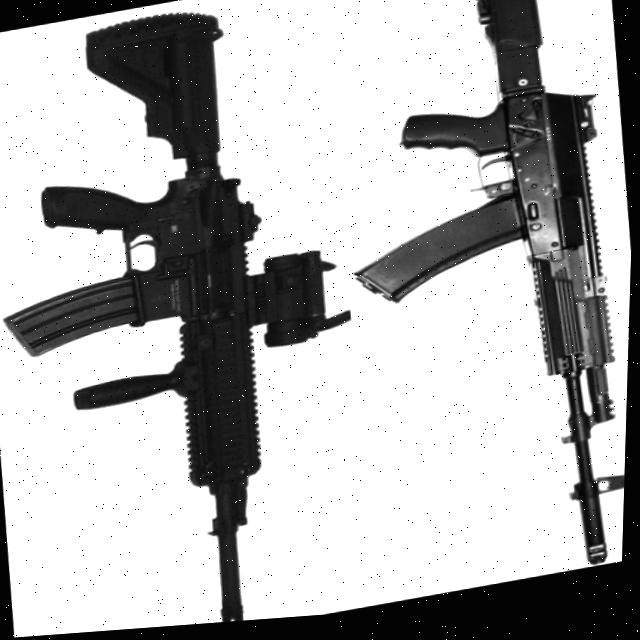firearm: (0, 0, 396, 640), (311, 0, 640, 615)
